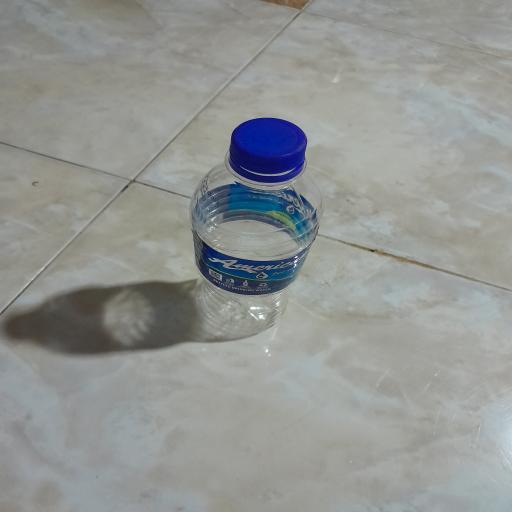waste: (182, 102, 326, 343)
